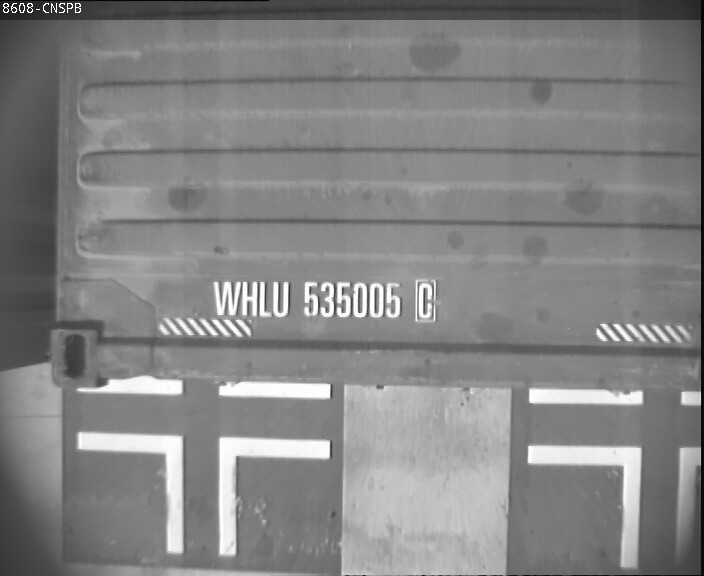groundmarker_1: (76, 429, 330, 554), (528, 445, 704, 566)
